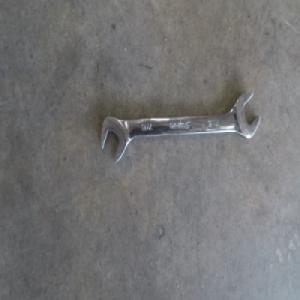Wrench: (98, 91, 258, 161)
